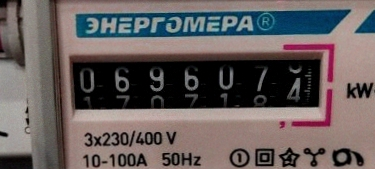0: (216, 60, 235, 90), (77, 64, 95, 92)
4: (285, 75, 301, 103)
6: (181, 62, 200, 92), (112, 63, 131, 91)
7: (252, 62, 269, 92)
9: (147, 64, 164, 92)
screen: (55, 35, 341, 127)
